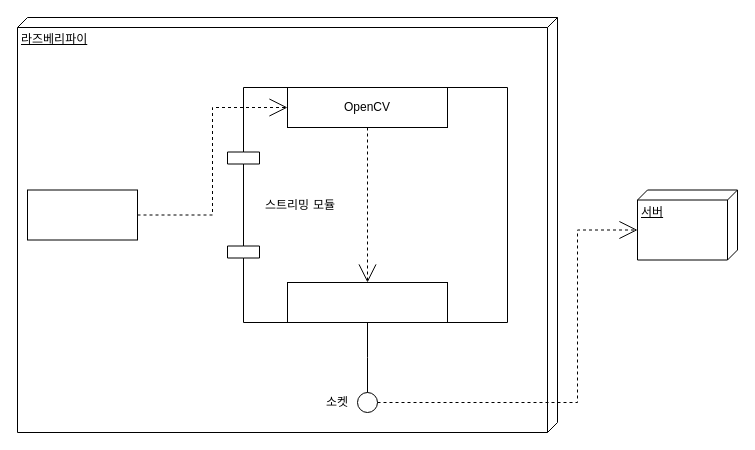
The diagram is 755 pixels wide and 450 high, and some of its shapes have lost their labels. Each missing label, with the centre of its shape:
"Socket Programming" belongs at point (367, 302).
"웹캠" belongs at point (82, 214).
